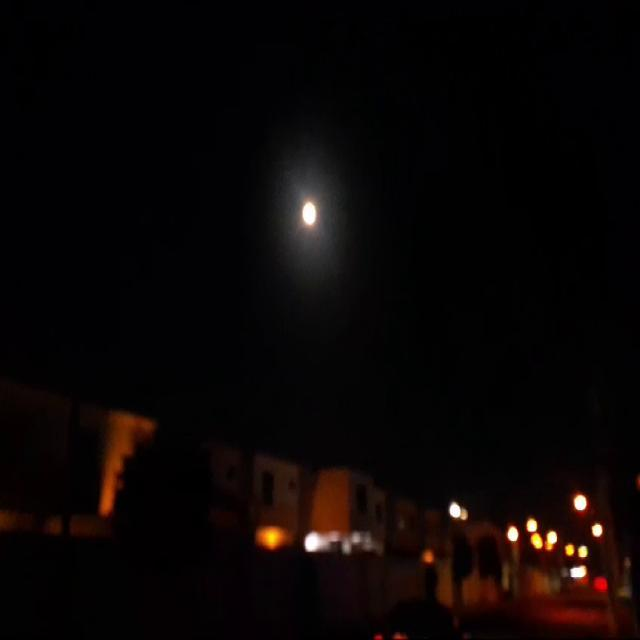moon: (296, 197, 319, 231)
